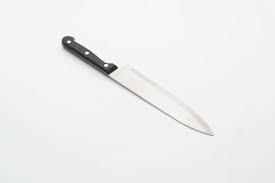Knife: (61, 35, 214, 136)
